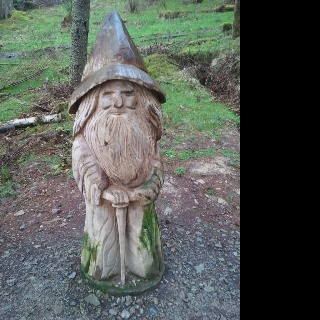without_mask: (97, 79, 141, 123)
